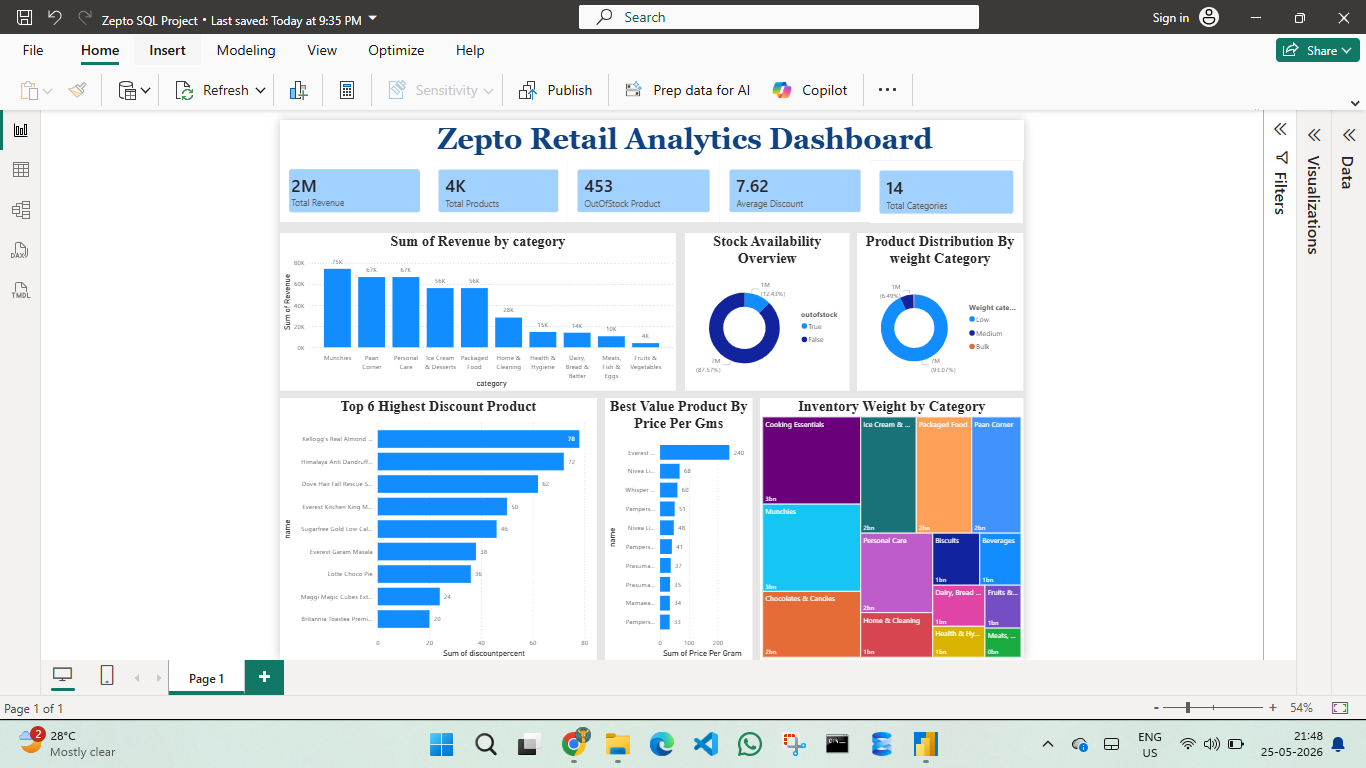

This screenshot's page, from the dashboard's own definition file:
{"tool":"powerbi","page":{"name":"Page 1","canvas":[1377,1000],"ordinal":0},"visuals":[{"type":"donutChart","title":"Stock Availability Overview","fields":{"Category":["SQL_Zepto_Project.outofstock"],"Y":["Sum(SQL_Zepto_Project.sku_id)"]},"box":[750,208.3,305,291.7],"z":0},{"type":"clusteredColumnChart","fields":{"Y":["Sum(SQL_Zepto_Project.Revenue)"],"Category":["SQL_Zepto_Project.category"]},"box":[0,208.3,733.3,291.7],"z":1000},{"type":"clusteredBarChart","title":"Top 6 Highest Discount Product","fields":{"Category":["SQL_Zepto_Project.name"],"Y":["Sum(SQL_Zepto_Project.discountpercent)"]},"box":[0,515,586.7,485],"z":2000},{"type":"clusteredBarChart","title":"Best Value Product By Price Per Gms","fields":{"Category":["SQL_Zepto_Project.name"],"Y":["Sum(SQL_Zepto_Project.Price Per Gram)"]},"box":[601.7,515,273.3,485],"z":3000},{"type":"donutChart","title":"Product Distribution By weight Category","fields":{"Category":["SQL_Zepto_Project.Weight category"],"Y":["Sum(SQL_Zepto_Project.sku_id)"]},"box":[1068.3,208.3,308.3,291.7],"z":4000},{"type":"treemap","title":"Inventory Weight by Category","fields":{"Details":["SQL_Zepto_Project.category"],"Values":["Sum(SQL_Zepto_Project.inventory weight)"]},"box":[888.3,515,488.3,485],"z":5000},{"type":"cardVisual","title":"Total Revenue","fields":{"Data":["SQL_Zepto_Project.Total Revenue"]},"box":[0,74.5,276.6,114.9],"z":6000},{"type":"textbox","box":[1016,868,104,36],"z":7000},{"type":"cardVisual","fields":{"Data":["SQL_Zepto_Project.Total Products"]},"box":[276.6,74.5,257.4,114.9],"z":8000},{"type":"cardVisual","fields":{"Data":["SQL_Zepto_Project.Average Discount"]},"box":[814.9,74.5,278.7,114.9],"z":9000},{"type":"cardVisual","fields":{"Data":["SQL_Zepto_Project.Total Categories"]},"box":[1093.3,75,283.3,115],"z":10000},{"type":"cardVisual","fields":{"Data":["SQL_Zepto_Project.OutOfStock Product"]},"box":[534,74.5,280.9,114.9],"z":11000},{"type":"textbox","box":[0,0,1500,75],"z":12000}]}

Visuals, with their boxes on the page's 1377x1000 design canvas (x1, y1, x2, y2). These are canvas units, not pixel positions in the 1366x768 screenshot, which may show the page scaled, cropped or inside an application window:
"Stock Availability Overview" donutChart: bbox=(750, 208, 1055, 500)
clusteredColumnChart - Sum(SQL_Zepto_Project.Revenue) x SQL_Zepto_Project.category: bbox=(0, 208, 733, 500)
"Top 6 Highest Discount Product" clusteredBarChart: bbox=(0, 515, 587, 1000)
"Best Value Product By Price Per Gms" clusteredBarChart: bbox=(602, 515, 875, 1000)
"Product Distribution By weight Category" donutChart: bbox=(1068, 208, 1377, 500)
"Inventory Weight by Category" treemap: bbox=(888, 515, 1377, 1000)
"Total Revenue" cardVisual: bbox=(0, 74, 277, 189)
textbox: bbox=(1016, 868, 1120, 904)
cardVisual - SQL_Zepto_Project.Total Products: bbox=(277, 74, 534, 189)
cardVisual - SQL_Zepto_Project.Average Discount: bbox=(815, 74, 1094, 189)
cardVisual - SQL_Zepto_Project.Total Categories: bbox=(1093, 75, 1377, 190)
cardVisual - SQL_Zepto_Project.OutOfStock Product: bbox=(534, 74, 815, 189)
textbox: bbox=(0, 0, 1500, 75)
